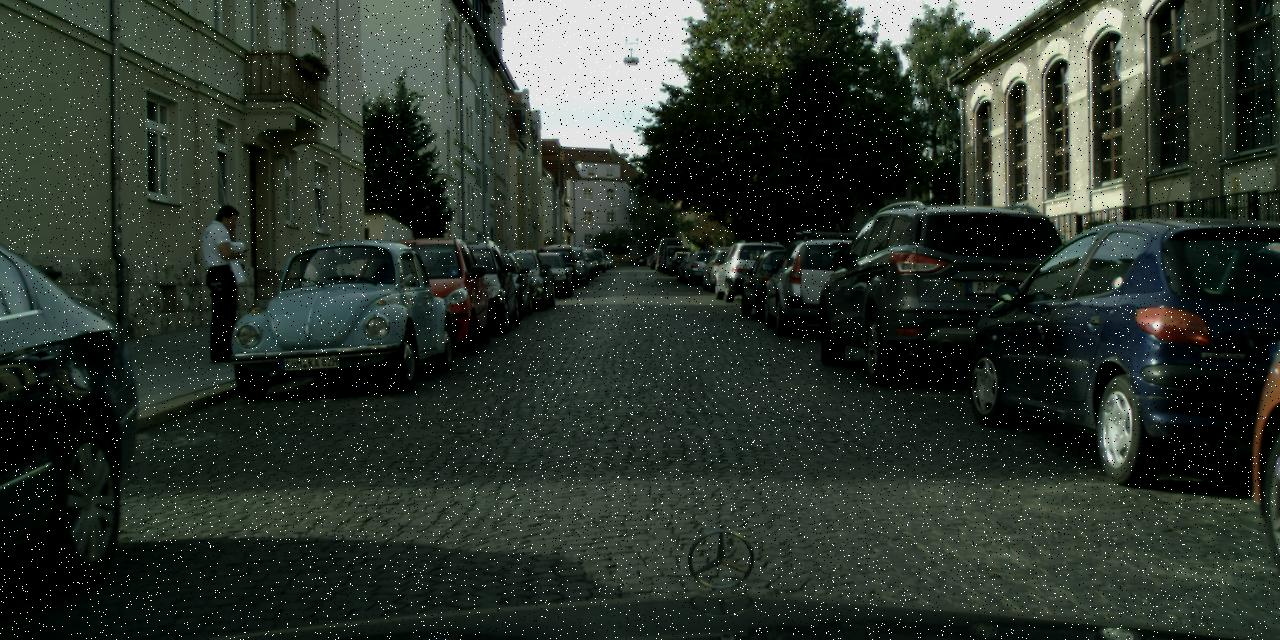ped: (194, 204, 258, 362)
